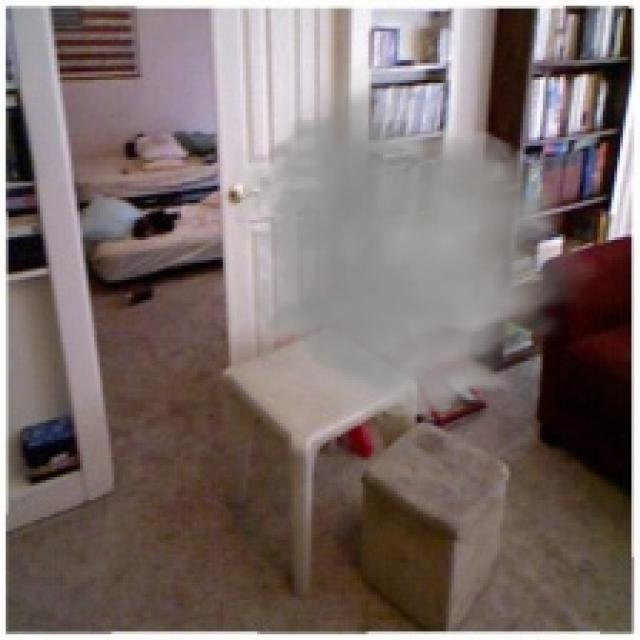Smoke: (214, 57, 609, 426)
